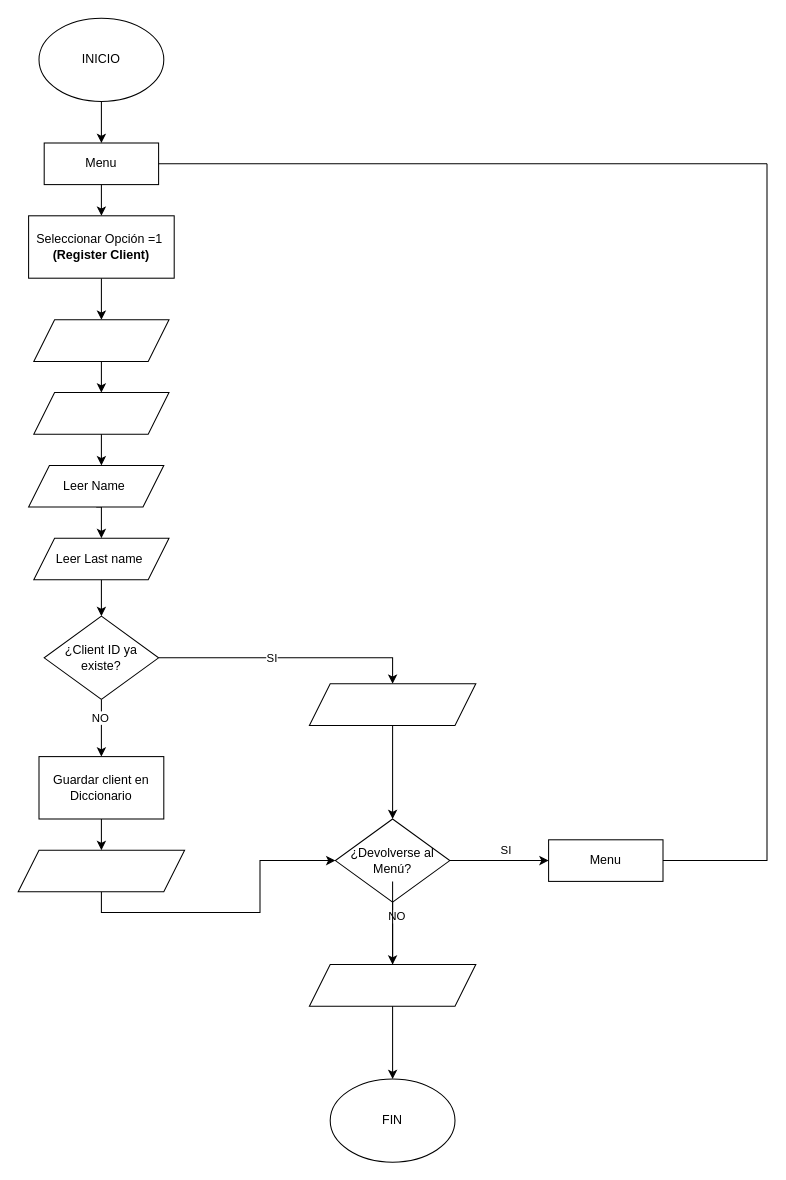
The diagram is 786 pixels wide and 1180 high, and some of its shapes have lost their labels. The shapes that lost their labels are listed below. From the top down, each one's box as (x1, y1, x2, y2) in pixels, then its label:
(33, 319, 169, 361): Leer ID
(33, 392, 169, 434): Leer email
(308, 683, 476, 725): Mostrar "Client already exists"
(17, 849, 185, 892): Mostrar "Client registered sucessfully"
(308, 964, 476, 1006): Mostrar mensaje de despedida "Goodbye"
